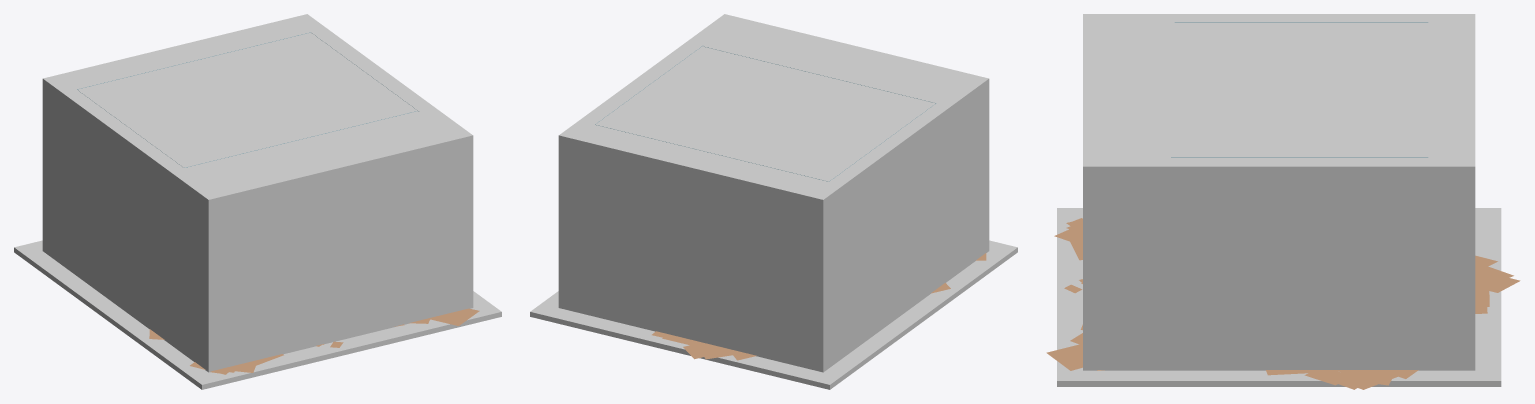
Rendered from FloorPlan405.fbx.
3 renders of one model, left to right at view 1: azimuth 30°, elevation 25°; view 2: azimuth 150°, elevation 25°; view 3: azimuth 270°, elevation 25°, orthographic. The views are drawn at different scales.
Visible parts, largest first — view 1: Cube.1409, Cube.1408, Decals.009; view 2: Cube.1409, Cube.1408, Decals.009; view 3: Cube.1409, Cube.1408, Decals.009, Cube.1410.
Boxes of the visible parts, left/top/right/bottom form: Cube.1409: left=42, top=14, right=473, bottom=372; Cube.1408: left=14, top=240, right=501, bottom=389; Decals.009: left=149, top=308, right=479, bottom=374; Cube.1409: left=558, top=14, right=989, bottom=372; Cube.1408: left=530, top=240, right=1017, bottom=389; Decals.009: left=652, top=253, right=986, bottom=360; Cube.1409: left=1083, top=14, right=1475, bottom=370; Cube.1408: left=1057, top=208, right=1501, bottom=386; Decals.009: left=1046, top=218, right=1520, bottom=389; Cube.1410: left=1171, top=22, right=1427, bottom=157.
Bounding box in the file's own units: 656 × 356 × 720.
